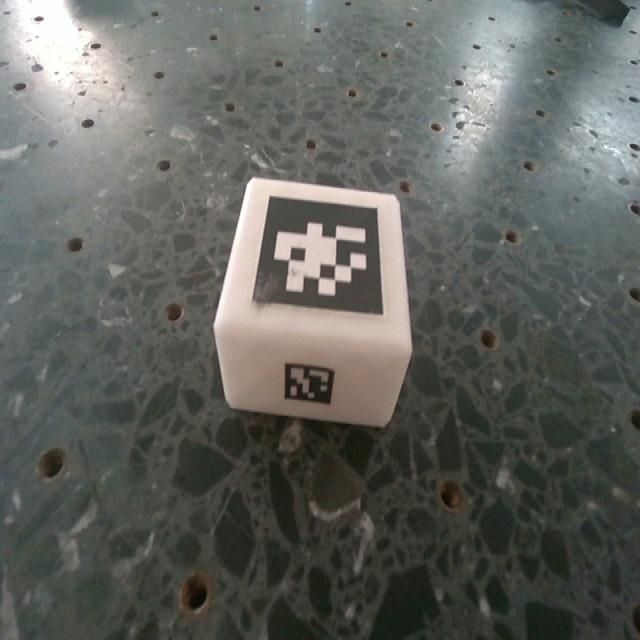Cube: (214, 177, 413, 431)
